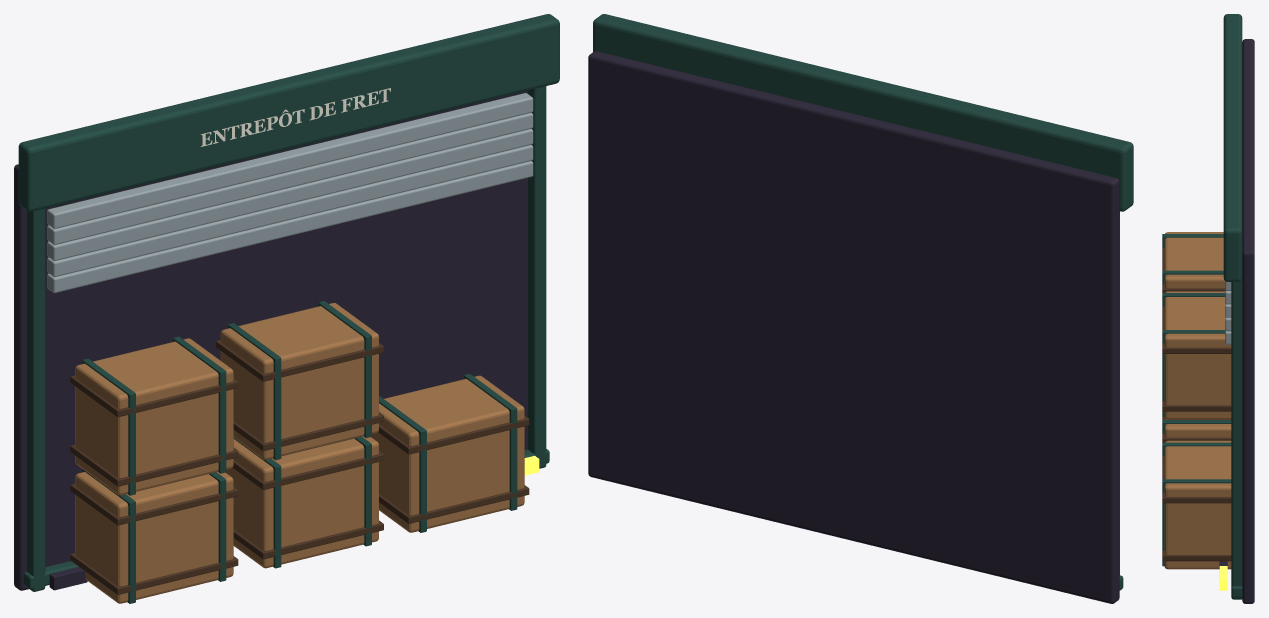
The model's file is warehouse_bay.glb.
3 renders of one model, left to right at view 1: azimuth 30°, elevation 25°; view 2: azimuth 150°, elevation 25°; view 3: azimuth 270°, elevation 25°, orthographic. The views are drawn at different scales.
Parts seen in each view (by area): view 1: Shadow_back, Sign_face, Crate_body.003, Crate_body.004, Crate_body.002, Crate_body, Crate_body.001, Shutter_slat, Shutter_slat.001, Shutter_slat.004, Shutter_slat.003, Shutter_slat.002 (+23 smaller); view 2: Shadow_back, Sign_face; view 3: Crate_body.002, Shadow_back, Crate_body.004, Sign_face, Carved_frame_stile.001, Crate_body.003, Crate_body.001, Strap.005, Strap.009, Vertical_strap.005, Strap.004, Strap.008 (+9 smaller).
Part boxes in pixels (x1=…): Shadow_back: x1=14, y1=90, x2=527, y2=590; Sign_face: x1=18, y1=14, x2=559, y2=211; Crate_body.003: x1=75, y1=338, x2=233, y2=495; Crate_body.004: x1=220, y1=303, x2=378, y2=459; Crate_body.002: x1=371, y1=375, x2=524, y2=532; Crate_body: x1=75, y1=472, x2=233, y2=603; Crate_body.001: x1=225, y1=436, x2=378, y2=568; Shutter_slat: x1=47, y1=93, x2=533, y2=228; Shutter_slat.001: x1=47, y1=112, x2=533, y2=244; Shutter_slat.004: x1=47, y1=161, x2=533, y2=293; Shutter_slat.003: x1=47, y1=145, x2=533, y2=276; Shutter_slat.002: x1=47, y1=129, x2=533, y2=260; Shadow_back: x1=588, y1=51, x2=1119, y2=603; Sign_face: x1=593, y1=14, x2=1133, y2=211; Crate_body.002: x1=1164, y1=440, x2=1231, y2=569; Shadow_back: x1=1242, y1=39, x2=1254, y2=603; Crate_body.004: x1=1164, y1=291, x2=1231, y2=419; Sign_face: x1=1223, y1=14, x2=1242, y2=281; Carved_frame_stile.001: x1=1231, y1=280, x2=1242, y2=599; Crate_body.003: x1=1164, y1=232, x2=1225, y2=288; Crate_body.001: x1=1164, y1=418, x2=1231, y2=437; Strap.005: x1=1162, y1=456, x2=1231, y2=503; Strap.009: x1=1162, y1=306, x2=1231, y2=353; Vertical_strap.005: x1=1162, y1=479, x2=1231, y2=566; Strap.004: x1=1162, y1=551, x2=1231, y2=561; Strap.008: x1=1162, y1=401, x2=1231, y2=411.
Size of the model in its own units: 3.3 by 2.67 by 0.595.
